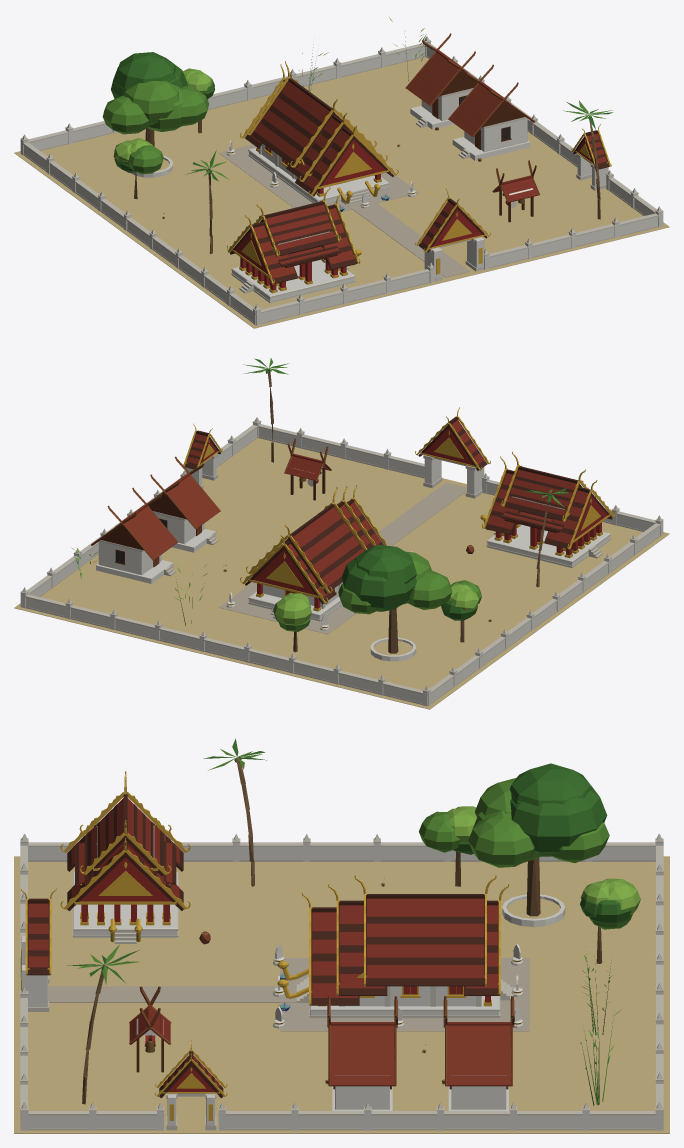
Rendered from temple_1.glb.
3 renders of one model, top to bottom at view 1: azimuth 30°, elevation 25°; view 2: azimuth 150°, elevation 25°; view 3: azimuth 270°, elevation 25°, orthographic. The views are drawn at different scales.
Visible parts, largest first — view 1: body; view 2: body; view 3: body.
Part boxes in pixels (<box>): body: <box>14,17,669,328</box>; body: <box>14,358,669,709</box>; body: <box>14,738,669,1133</box>.
Size of the model in its own units: 47.9 by 12.13 by 47.9.
